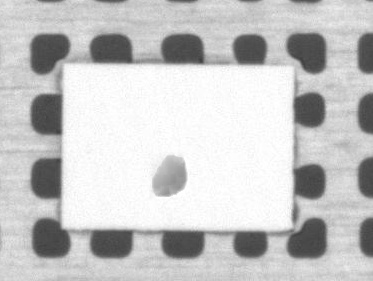DIE_INK: (150, 153, 194, 202)
